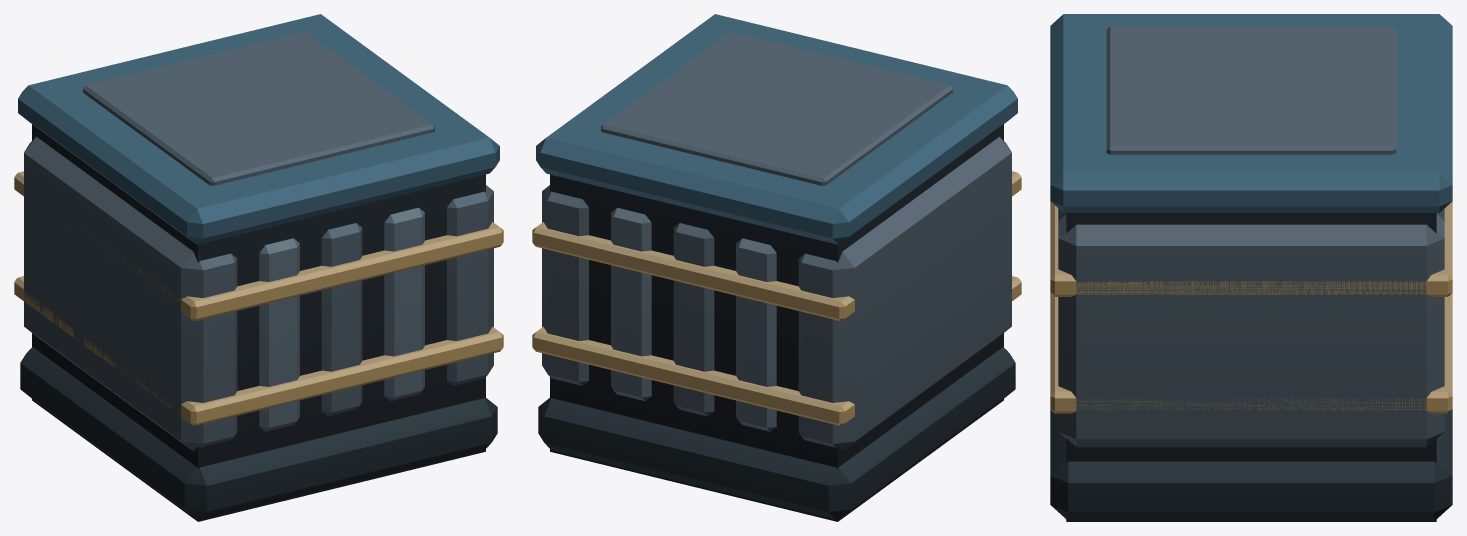
File: driftwood-wall.glb
The picture shows the model from 3 angles, left to right: view 1: azimuth 30°, elevation 25°; view 2: azimuth 150°, elevation 25°; view 3: azimuth 270°, elevation 25°; orthographic projection. The views are drawn at different scales.
Visible parts, largest first — view 1: mesh_driftwood_wall; view 2: mesh_driftwood_wall; view 3: mesh_driftwood_wall.
Part boxes in pixels (bbox=[...]): mesh_driftwood_wall: bbox=[14, 14, 503, 521]; mesh_driftwood_wall: bbox=[532, 14, 1021, 521]; mesh_driftwood_wall: bbox=[1050, 14, 1452, 521].
Size of the model in its own units: 1 by 0.98 by 1.
